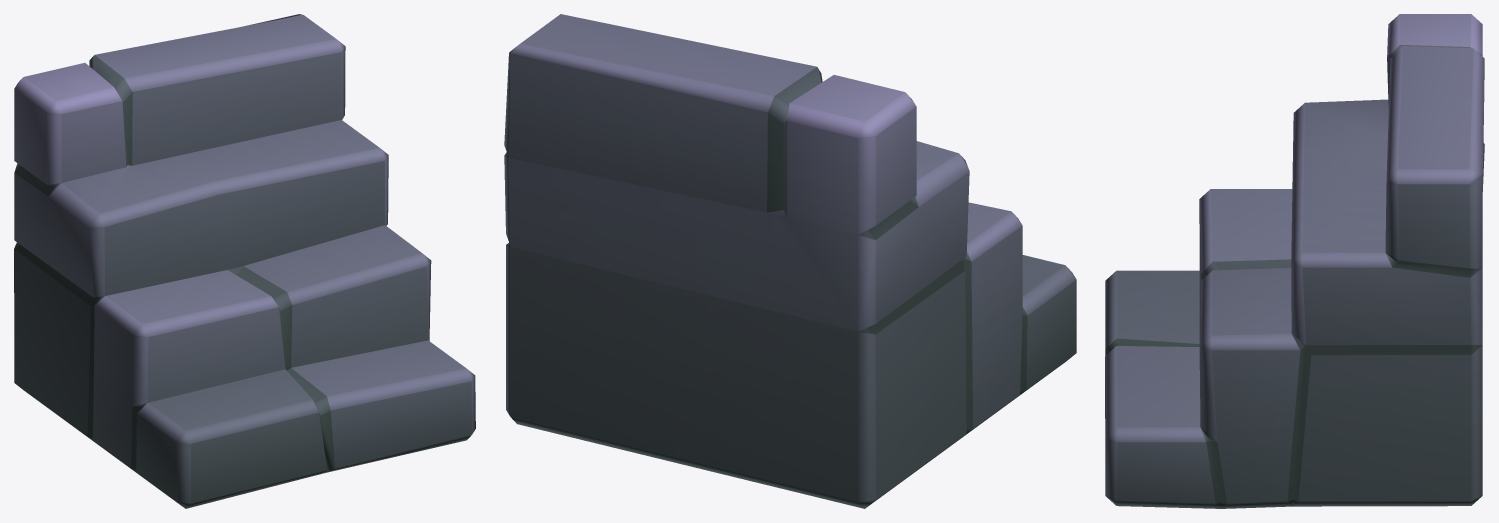
The model's file is undead_stairs_shade_2.fbx.
3 views of the same model, side by side, from view 1: azimuth 30°, elevation 25°; view 2: azimuth 150°, elevation 25°; view 3: azimuth 270°, elevation 25° (orthographic). The views are drawn at different scales.
Parts seen in each view (by area): view 1: undead_stairs_shade_2; view 2: undead_stairs_shade_2; view 3: undead_stairs_shade_2.
Part boxes in pixels (x1,y1,x2,y2): undead_stairs_shade_2: (14, 14, 475, 508); undead_stairs_shade_2: (504, 14, 1076, 508); undead_stairs_shade_2: (1105, 14, 1484, 508).
Size of the model in its own units: 1.01 by 1.02 by 1.01.
